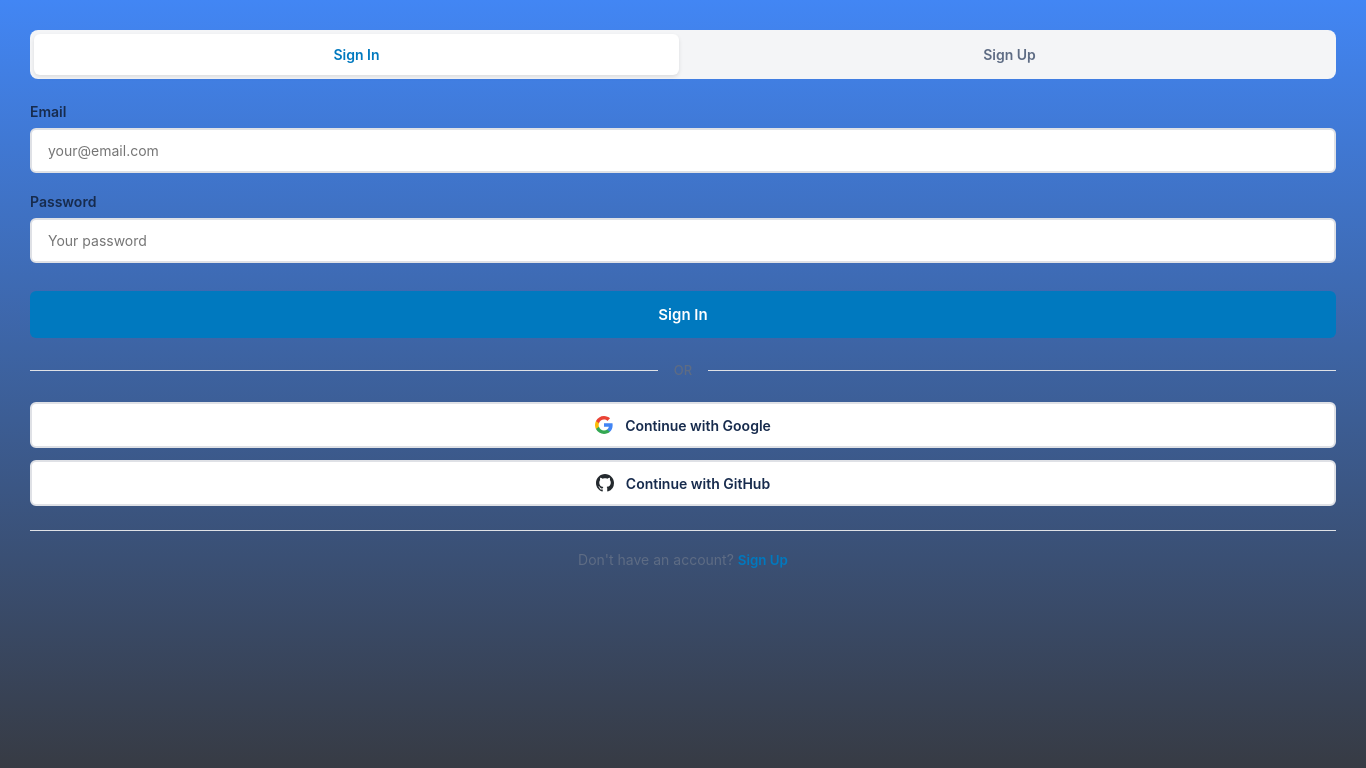
Test case: AuthForm › should handle sign up with existing email
Click the 1st button "Sign Up".
click(1010, 54)  # box [687,34,1332,75]
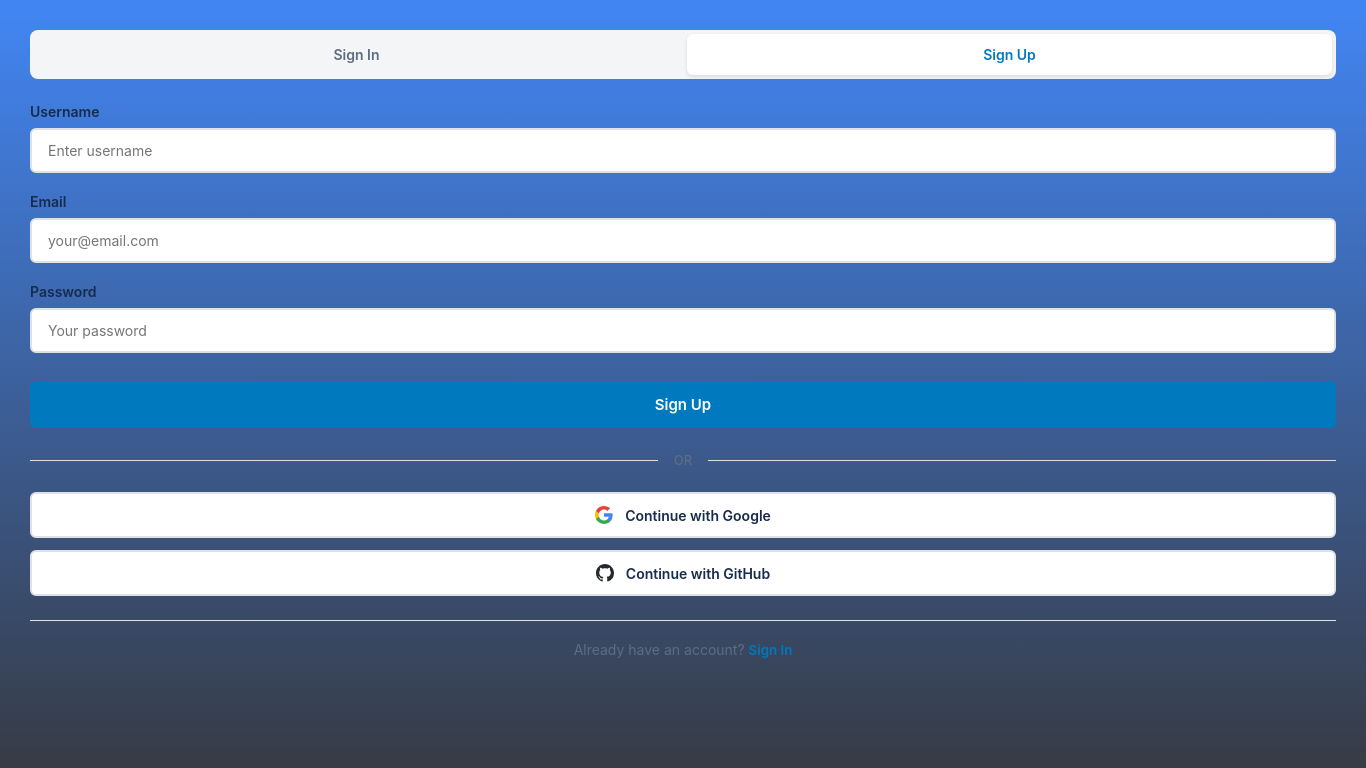
Type "user" into the field labelled "Username".
click(683, 150); type("user")  # box [30,128,1336,173]
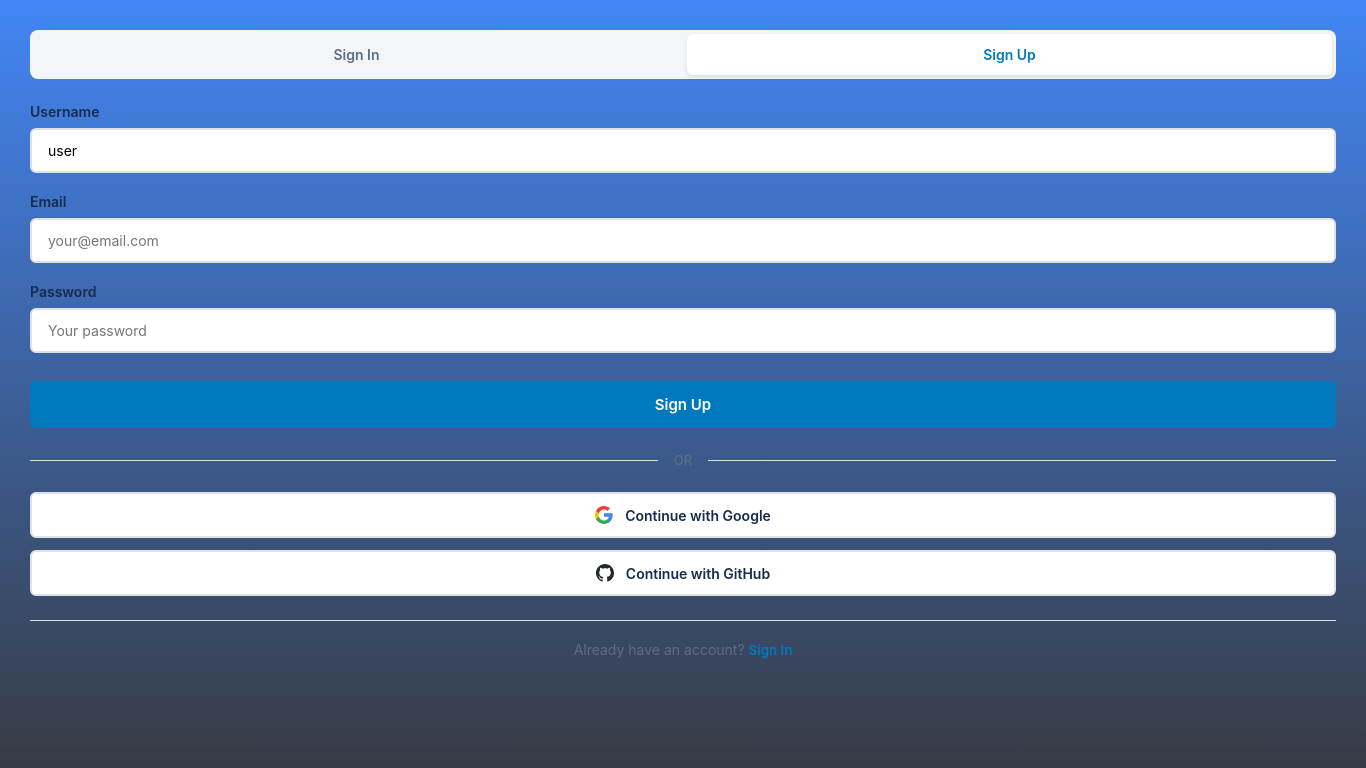
Type "existing@test.com" into the field labelled "Email".
click(683, 240); type("existing@test.com")  # box [30,218,1336,263]
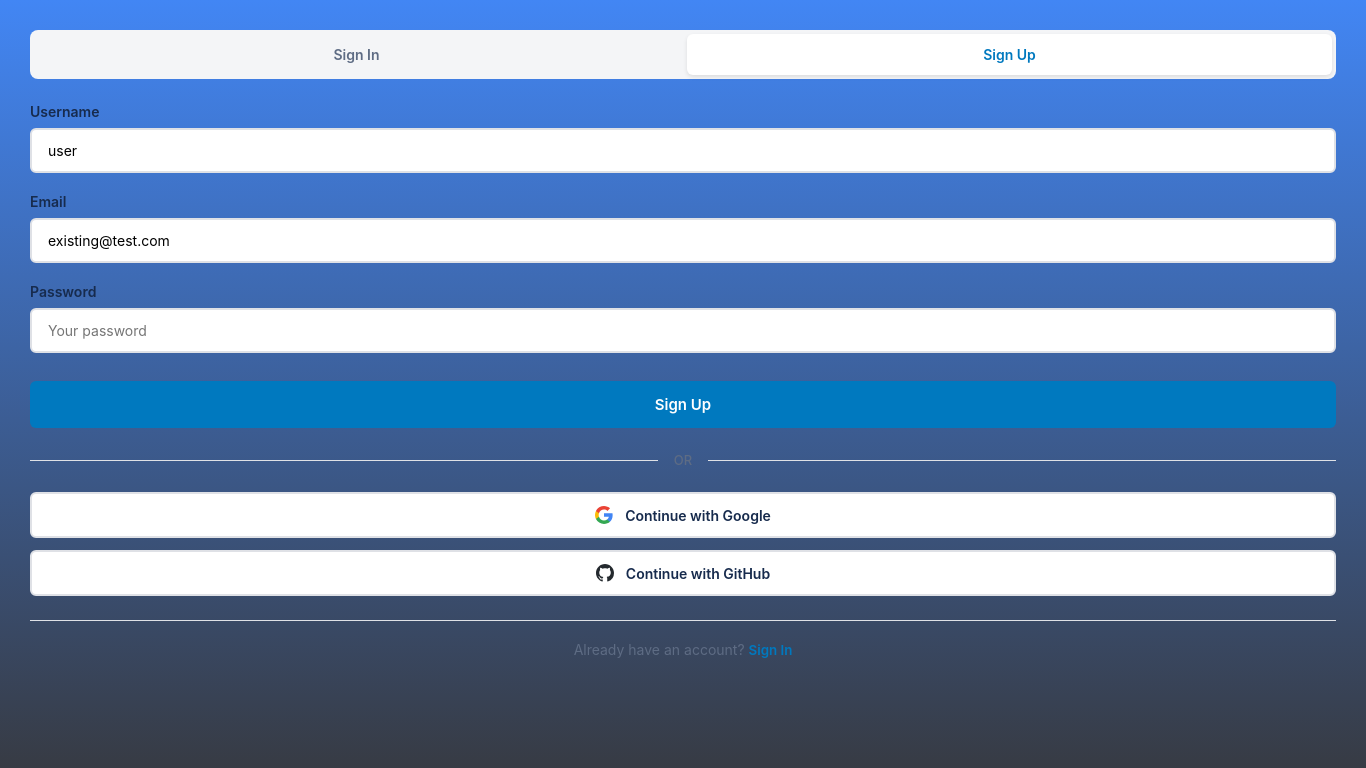
Type "password" into the password field labelled "Password".
click(683, 330); type("password")  # box [30,308,1336,353]
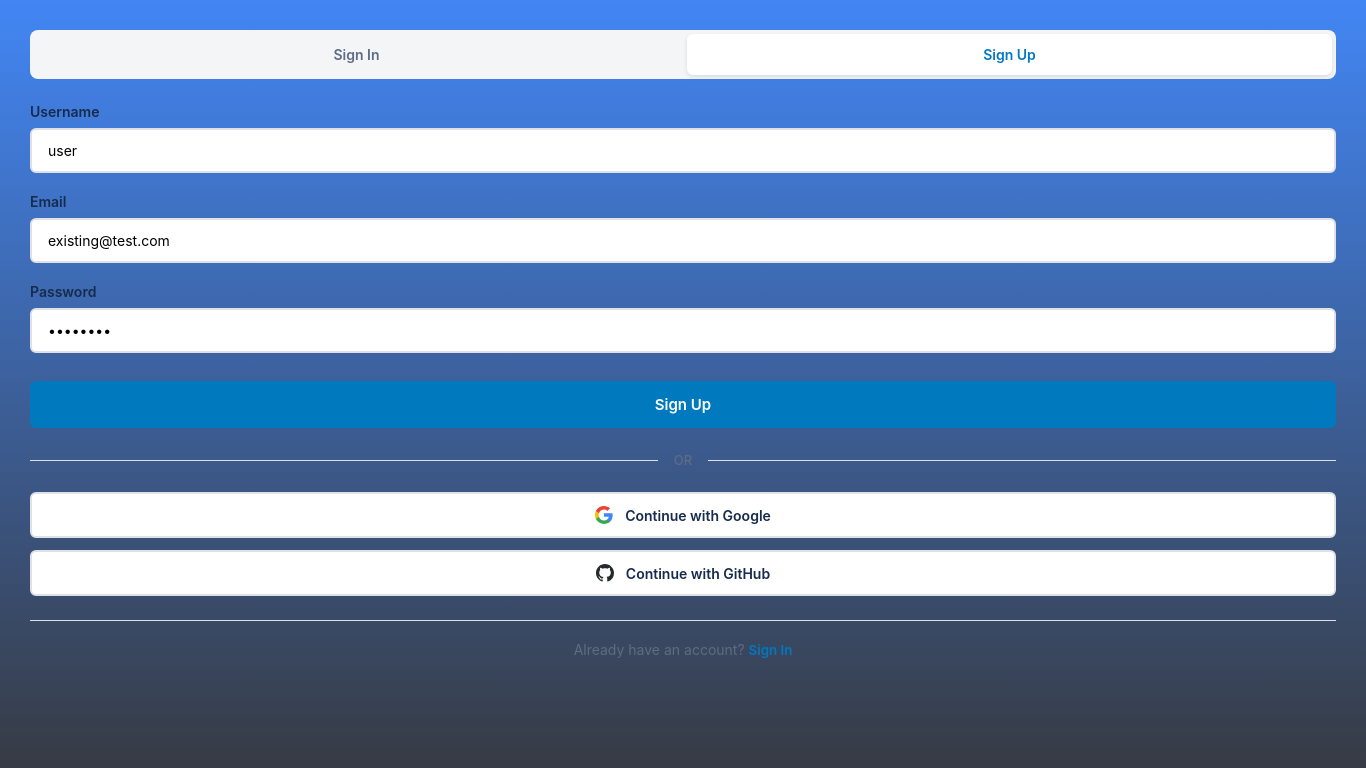
Submit the form with class "auth-form-content", box [30,103,1336,428]
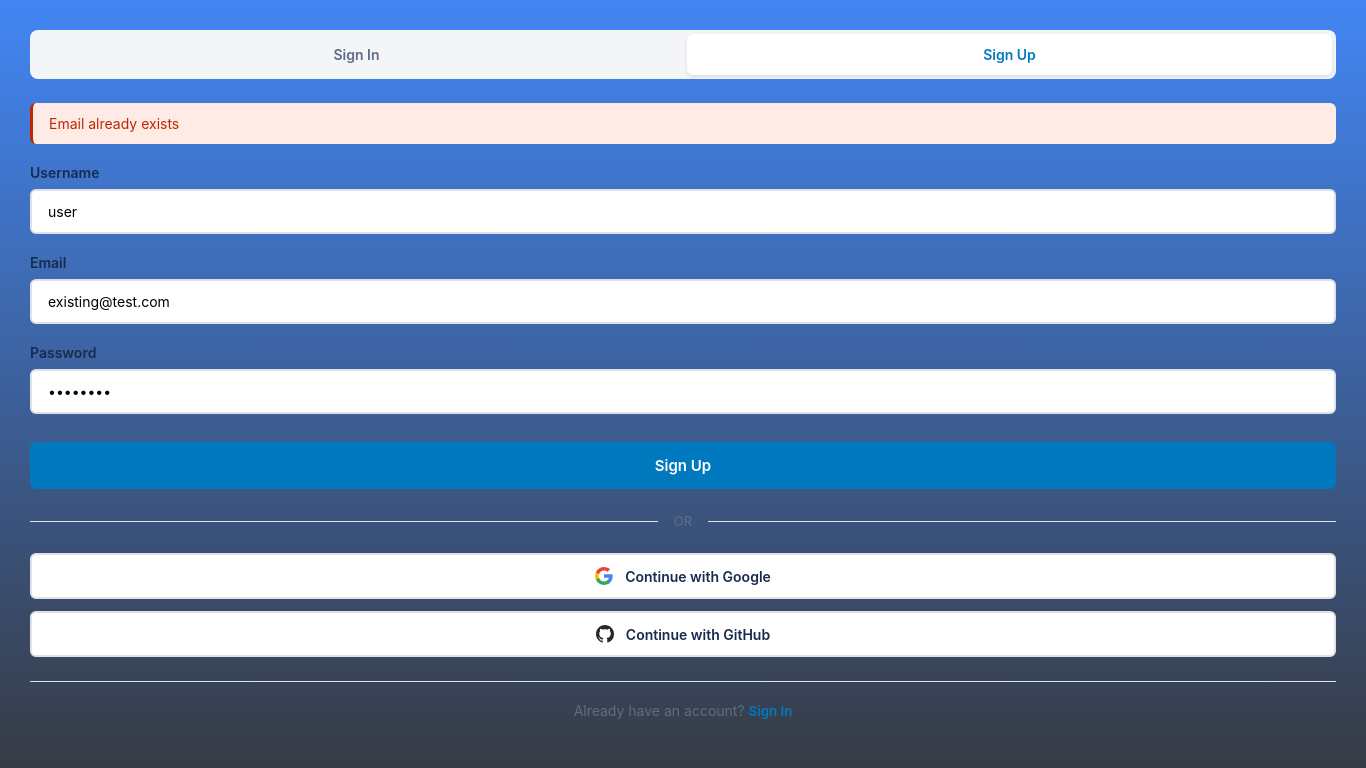
expect the text "Email already exists" is shown: met, box [30,103,1336,144]
